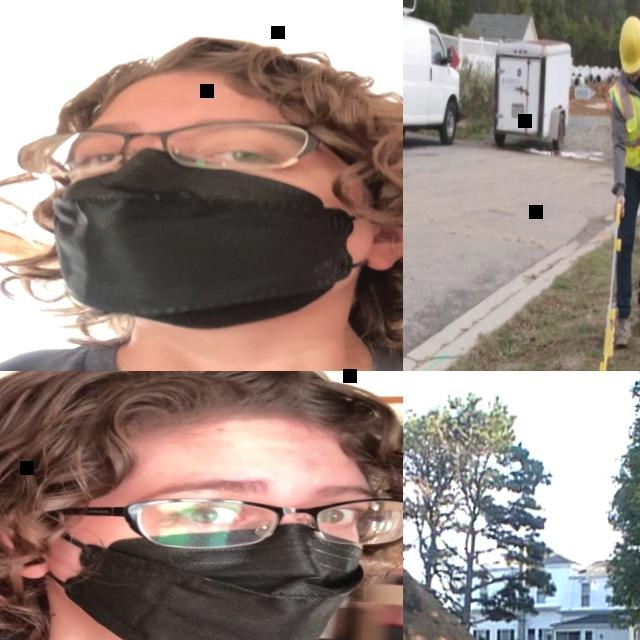Hardhat: (617, 16, 640, 75)
Mask: (34, 144, 403, 336), (34, 517, 369, 640)
NO-Hardhat: (0, 371, 395, 475), (74, 30, 403, 132)
NO-Mask: (627, 73, 638, 83)
Person: (0, 21, 403, 371), (0, 371, 403, 640), (597, 15, 640, 350)
Safety Cone: (605, 85, 612, 111)
Safety Vest: (606, 46, 640, 171)
vehicle: (403, 0, 464, 158)
